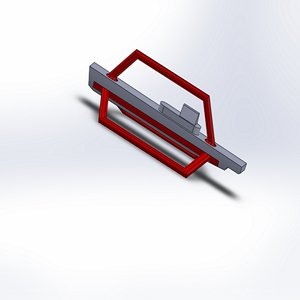submarine: (57, 45, 264, 199)
